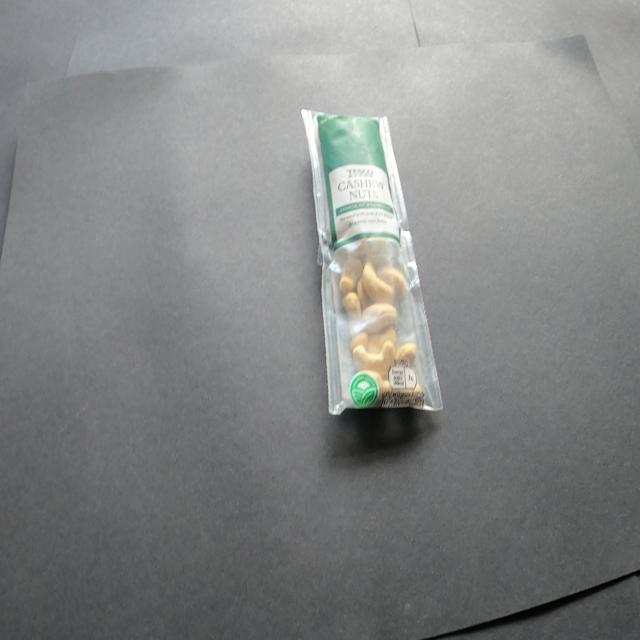Cashewnut: (274, 75, 466, 448)
